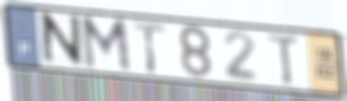2: (221, 29, 261, 85)
8: (178, 25, 213, 81)
M: (78, 15, 134, 76)
N: (40, 11, 85, 69)
T: (131, 20, 169, 76), (266, 32, 302, 87)
